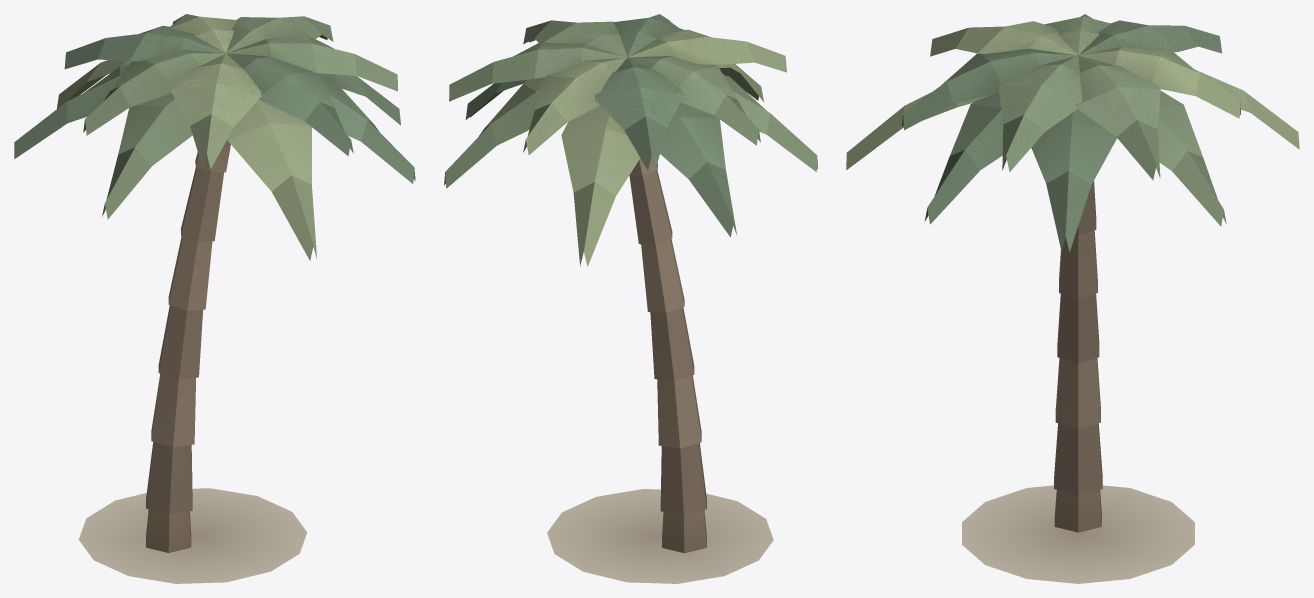
The model's file is palm_1.glb.
The picture shows the model from 3 angles, left to right: view 1: azimuth 30°, elevation 25°; view 2: azimuth 150°, elevation 25°; view 3: azimuth 270°, elevation 25°; orthographic projection. The views are drawn at different scales.
Parts seen in each view (by area): view 1: palm_1; view 2: palm_1; view 3: palm_1.
Part boxes in pixels (box(x1,y1,x2,y2)): palm_1: box(14, 14, 415, 583); palm_1: box(444, 14, 817, 583); palm_1: box(846, 14, 1299, 583).
Bounding box in the file's own units: 3.97 × 5.91 × 4.56.
